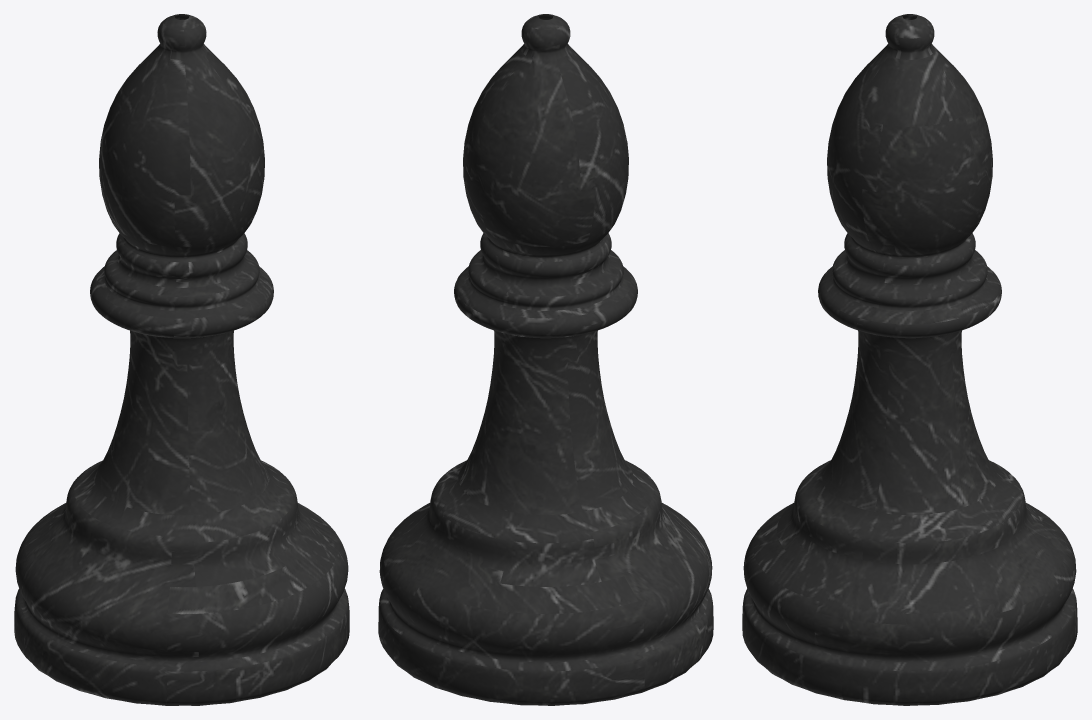
File: BBishop.glb
3 renders of one model, left to right at view 1: azimuth 30°, elevation 25°; view 2: azimuth 150°, elevation 25°; view 3: azimuth 270°, elevation 25°, orthographic.
Visible parts, largest first — view 1: Circle.002; view 2: Circle.002; view 3: Circle.002.
Part boxes in pixels (bbox=[...]): Circle.002: bbox=[14, 14, 349, 705]; Circle.002: bbox=[378, 14, 713, 705]; Circle.002: bbox=[742, 14, 1077, 705].
Bounding box in the file's own units: 2.67 × 5.49 × 2.67.
1 material, 1 textured.
